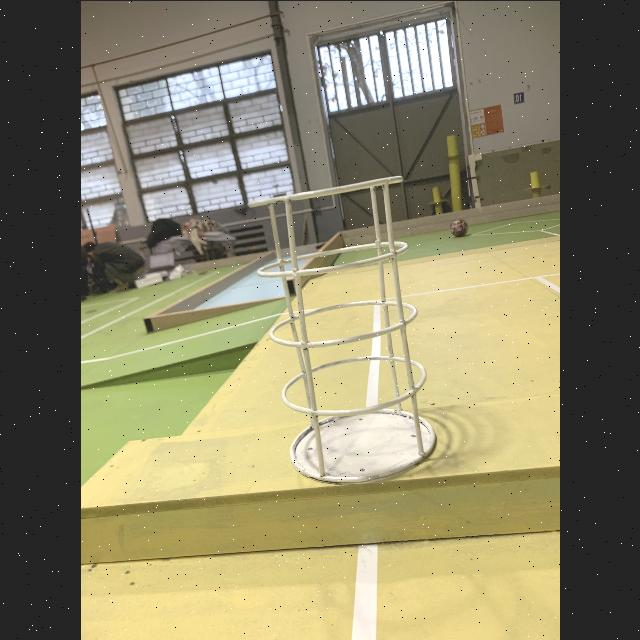S: (247, 173, 437, 485)
